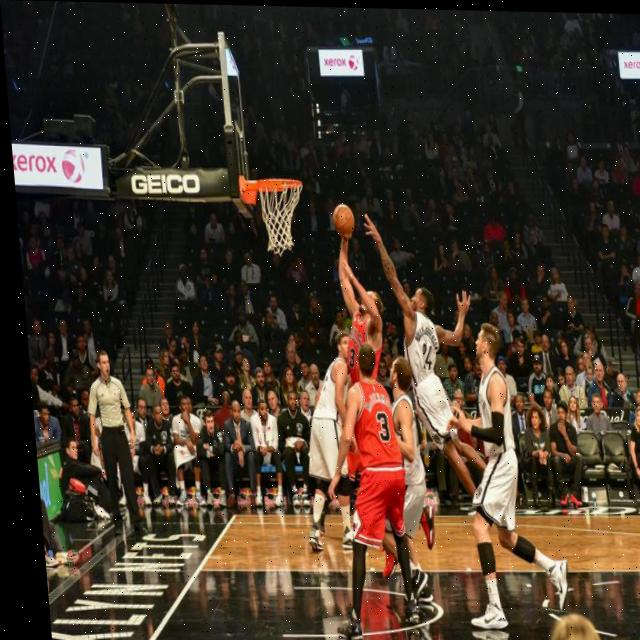basketball: (332, 205, 356, 238)
hoop: (258, 178, 309, 257)
